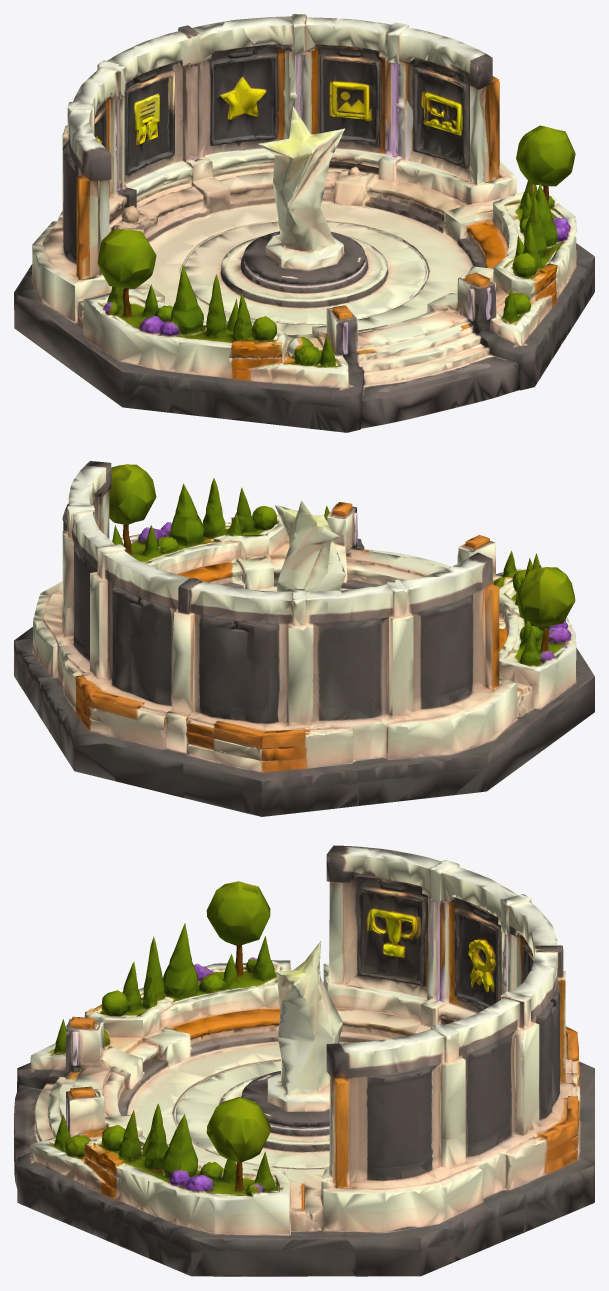
The model's file is circle-achievement.glb.
The picture shows the model from 3 angles, top to bottom: view 1: azimuth 30°, elevation 25°; view 2: azimuth 150°, elevation 25°; view 3: azimuth 270°, elevation 25°; orthographic projection. The views are drawn at different scales.
Size of the model in its own units: 1.9 by 0.7679 by 1.91.
1 material, 1 textured.
